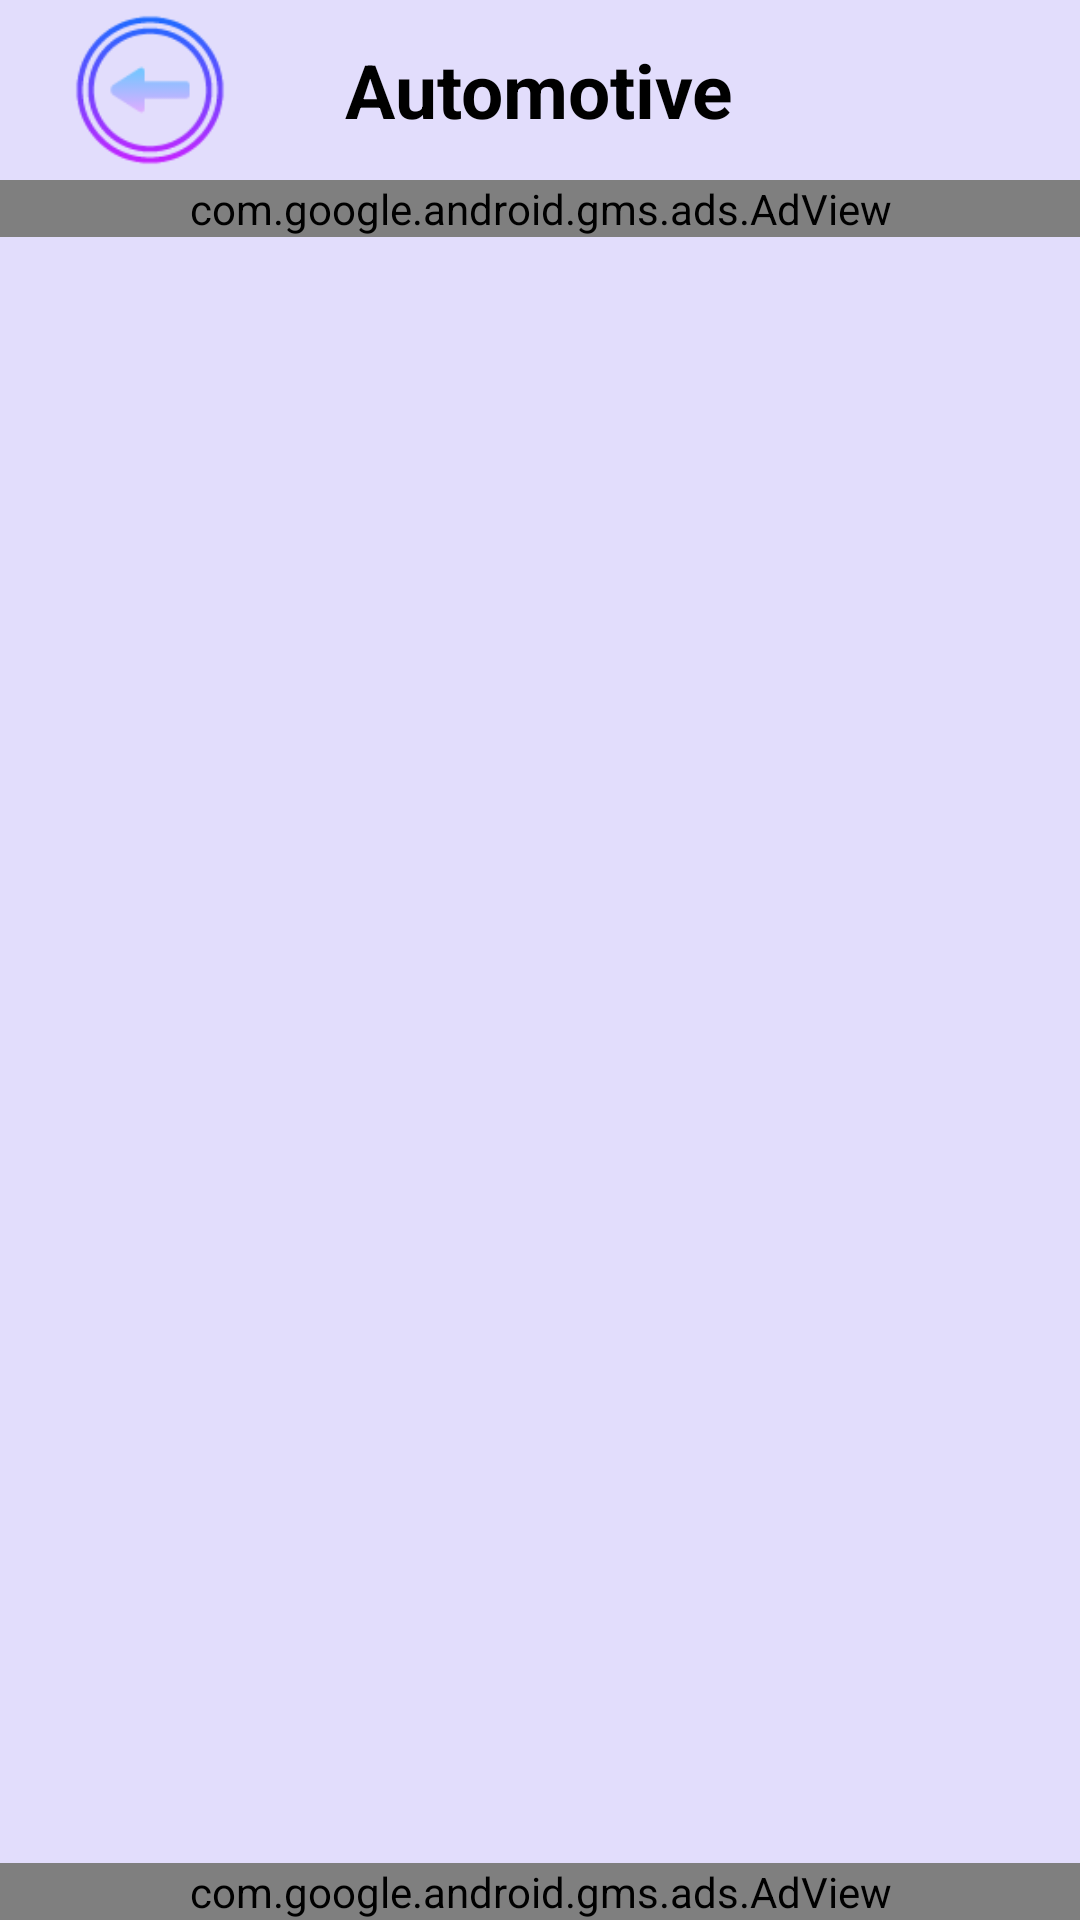

Where icons sit on this 1080x1920 app screen, as BBox(x1, y1, x2, y2):
back: BBox(76, 16, 224, 164)
